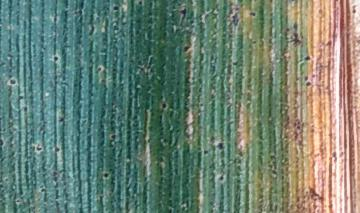tarspot: (291, 32, 301, 45), (291, 21, 300, 31), (179, 7, 187, 18), (216, 142, 224, 151), (208, 135, 216, 144), (351, 4, 357, 15), (9, 78, 17, 85), (112, 4, 119, 12), (183, 45, 191, 52), (304, 81, 312, 88), (160, 102, 168, 109), (231, 60, 239, 67), (52, 55, 59, 62), (35, 145, 42, 152), (53, 146, 60, 153), (102, 172, 109, 179), (304, 55, 311, 62), (58, 115, 64, 123), (248, 11, 256, 17), (22, 106, 28, 113), (52, 16, 58, 23), (109, 133, 116, 139), (96, 66, 102, 73), (218, 175, 225, 181), (136, 1, 144, 6), (40, 187, 46, 193), (202, 149, 208, 155), (285, 26, 290, 33), (18, 95, 24, 100), (1, 138, 4, 148), (15, 198, 20, 204), (4, 177, 9, 183), (1, 188, 5, 194), (1, 183, 4, 189)
